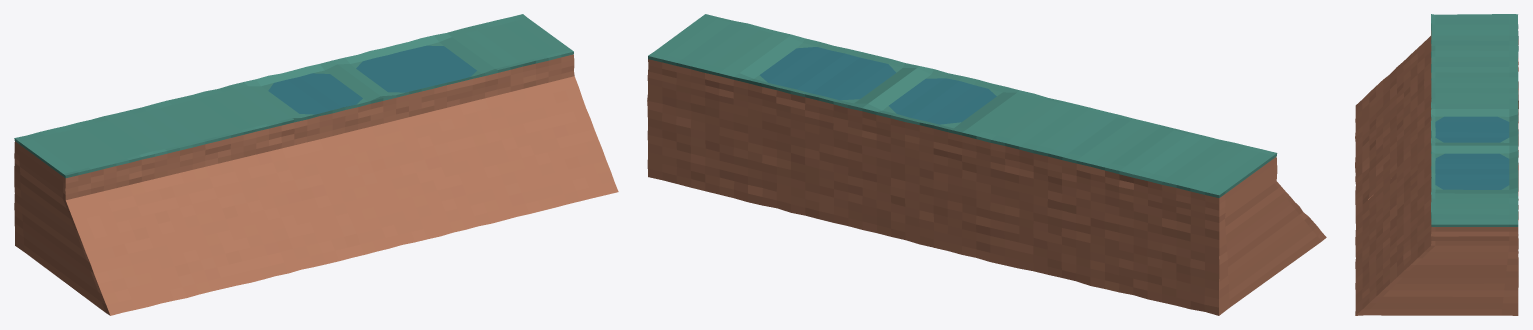
Rendered from Lv3Ground.fbx.
The picture shows the model from 3 angles, left to right: view 1: azimuth 30°, elevation 25°; view 2: azimuth 150°, elevation 25°; view 3: azimuth 270°, elevation 25°; orthographic projection. The views are drawn at different scales.
Parts seen in each view (by area): view 1: Lv3Floor1.001; view 2: Lv3Floor1.001; view 3: Lv3Floor1.001.
Part boxes in pixels (left/top/right/bottom): Lv3Floor1.001: left=14, top=14, right=618, bottom=315; Lv3Floor1.001: left=647, top=14, right=1326, bottom=315; Lv3Floor1.001: left=1355, top=14, right=1518, bottom=315.
Bounding box in the file's own units: 19495 × 4017 × 6407.
